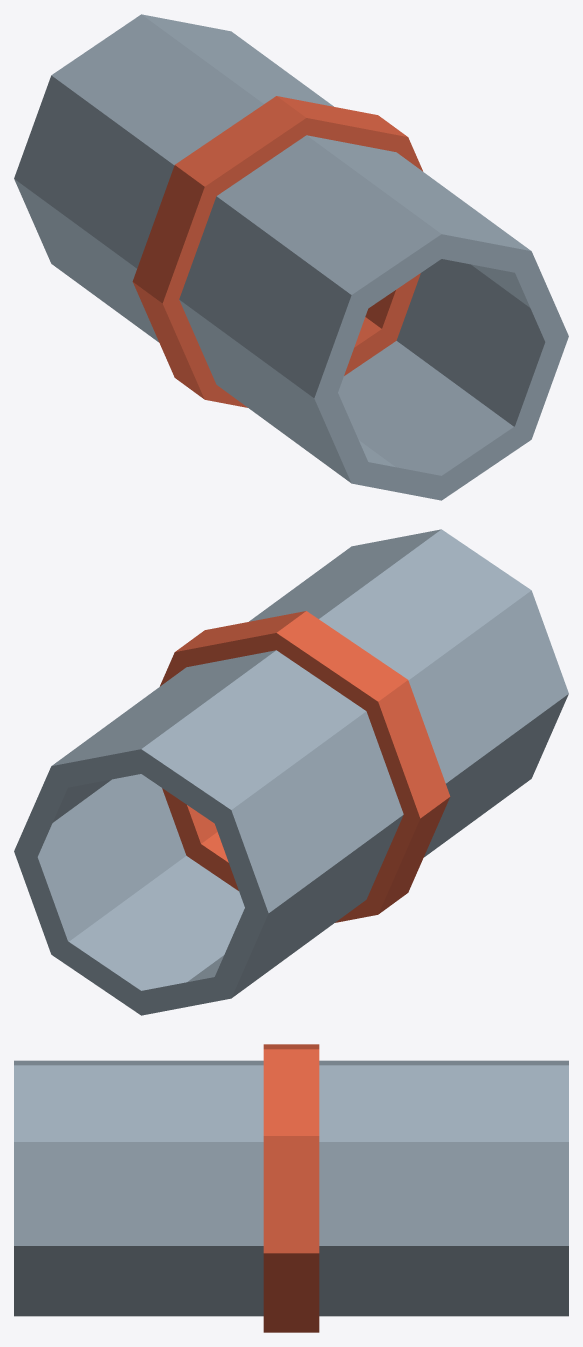
The model's file is pipeStraightLiner.glb.
3 renders of one model, top to bottom at view 1: azimuth 30°, elevation 25°; view 2: azimuth 150°, elevation 25°; view 3: azimuth 270°, elevation 25°, orthographic. The views are drawn at different scales.
Visible parts, largest first — view 1: pipeStraightLiner; view 2: pipeStraightLiner; view 3: pipeStraightLiner.
Part boxes in pixels (x1,y1,x2,y2): pipeStraightLiner: (14,14,568,500); pipeStraightLiner: (14,529,568,1015); pipeStraightLiner: (14,1044,568,1332).
Bounding box in the file's own units: 5.53 × 5.53 × 10.
